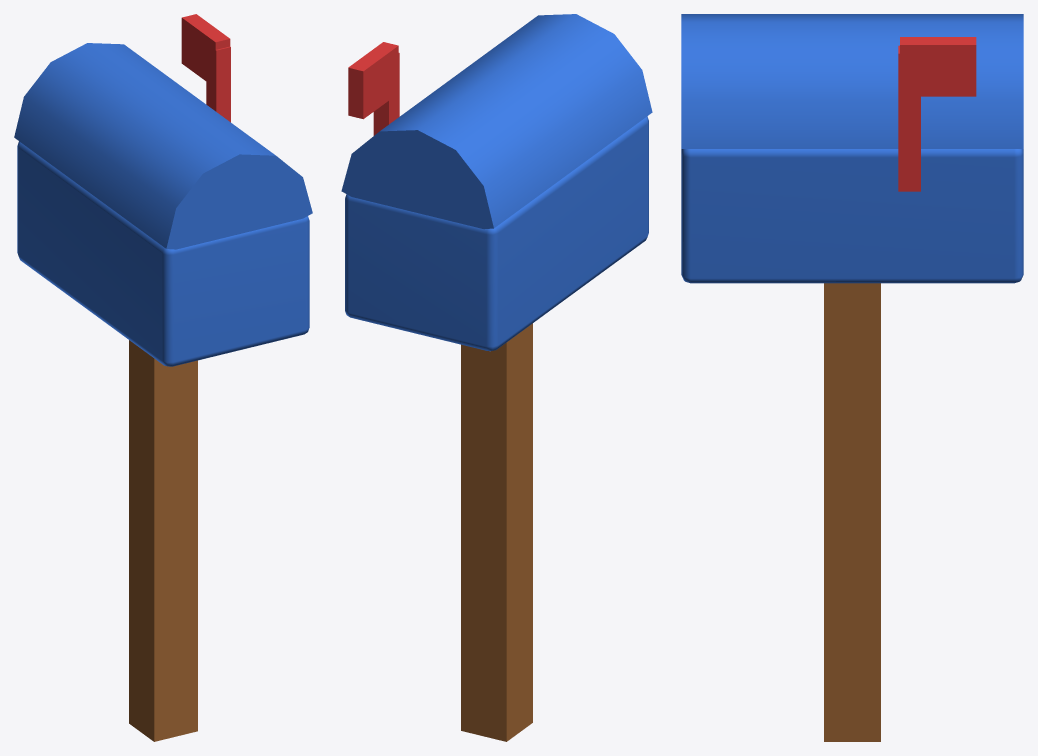
Rendered from Mailbox.fbx.
The picture shows the model from 3 angles, left to right: view 1: azimuth 30°, elevation 25°; view 2: azimuth 150°, elevation 25°; view 3: azimuth 270°, elevation 25°; orthographic projection. The views are drawn at different scales.
Visible parts, largest first — view 1: Mailbox; view 2: Mailbox; view 3: Mailbox.
Part boxes in pixels (bbox=[...]): Mailbox: bbox=[14, 14, 312, 741]; Mailbox: bbox=[341, 14, 652, 741]; Mailbox: bbox=[681, 14, 1023, 741].
Size of the model in its own units: 1.1 by 4.25 by 1.8.
1 material, 1 textured.
